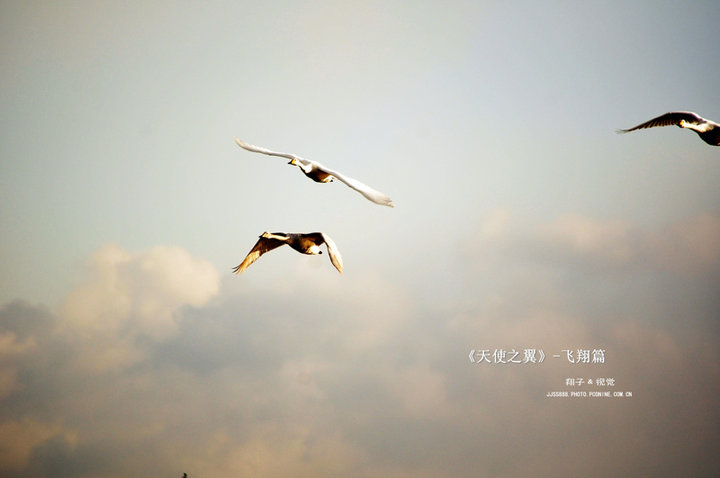bird: (234, 138, 399, 208), (227, 226, 346, 276), (611, 106, 720, 151)
